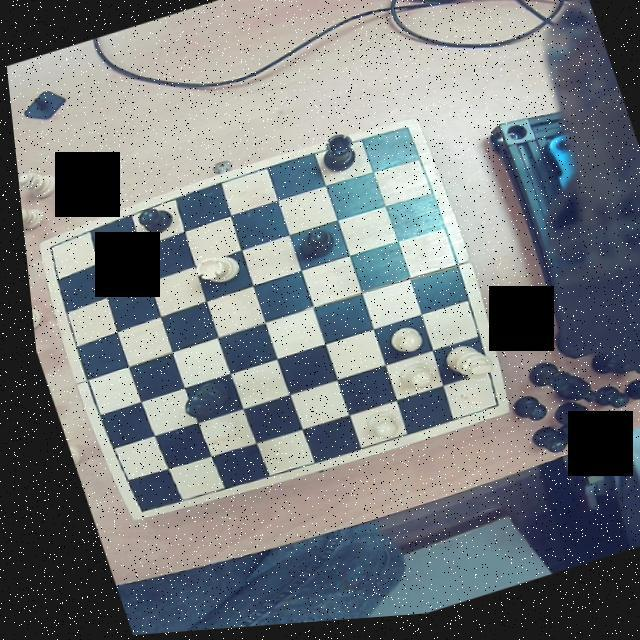chess-table-corners: (386, 124, 416, 152), (472, 396, 500, 424), (115, 500, 148, 523), (32, 240, 58, 264)
